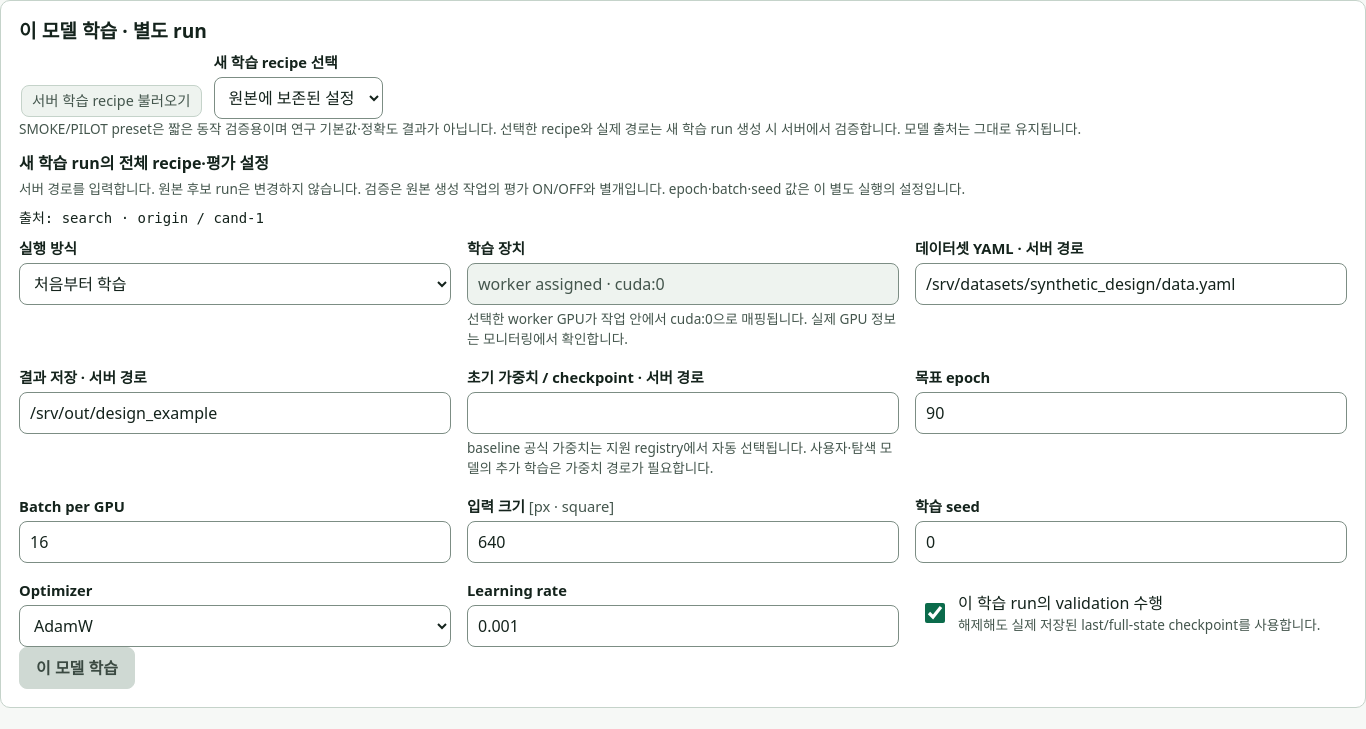
Test: TrainingPanel resume banner (DD-9) › states that external full-state import is unsupported and only the latest full-state of a paused run resumes
The image size is (1366, 729).
Step 1. Select "기존 학습 run의 full-state 재개" in the dropdown with test id "training-mode" → (235, 284), box left=19, top=263, right=451, bottom=305
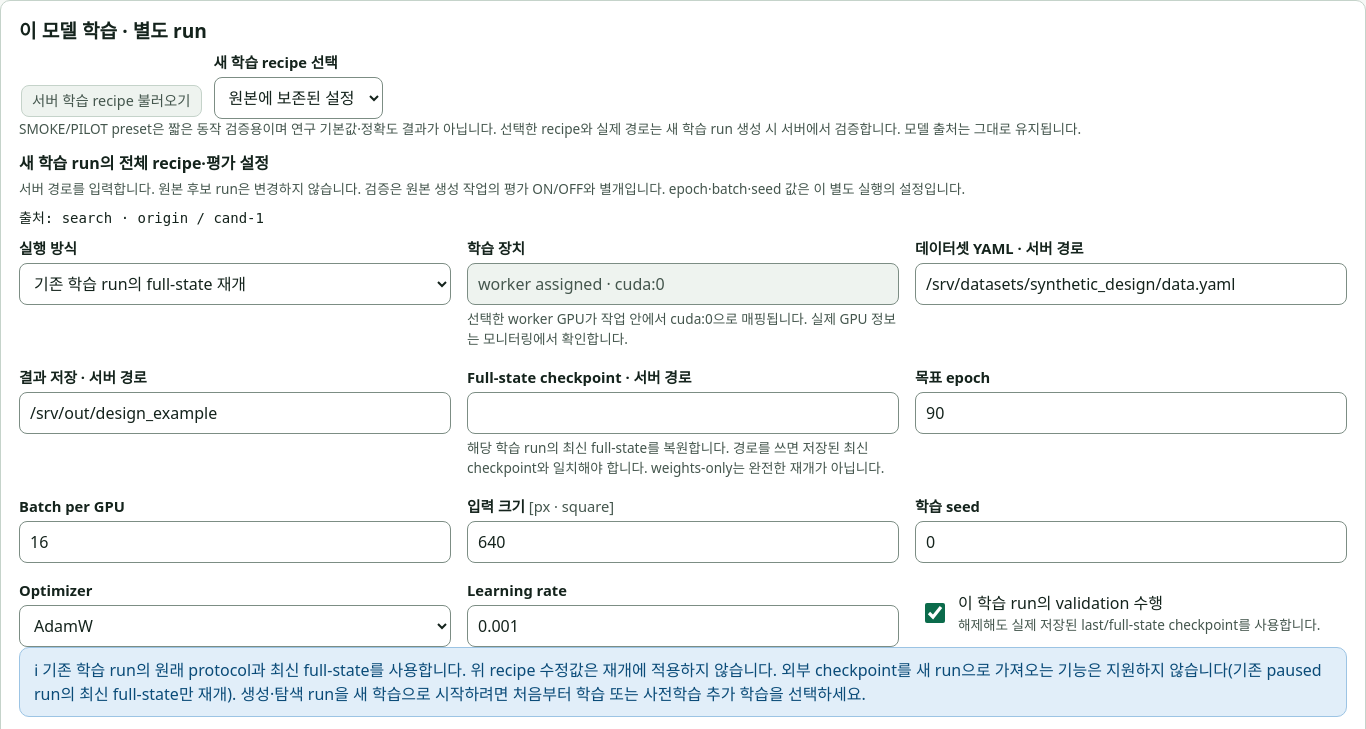
Result: the text "기존 학습 run의 원래 protocol과 최신 full-state를 사용합니다" shows "외부 checkpoint를 새 run으로 가져오는 기능은 지원하지 않습니다(기존 paused run의 최신 full-state만 재개)" at left=34, top=659, right=1322, bottom=705
